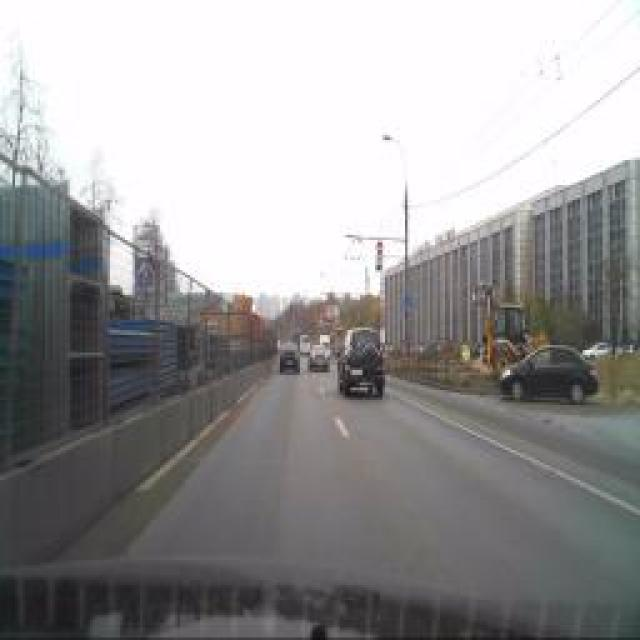sign: (404, 298, 411, 312)
